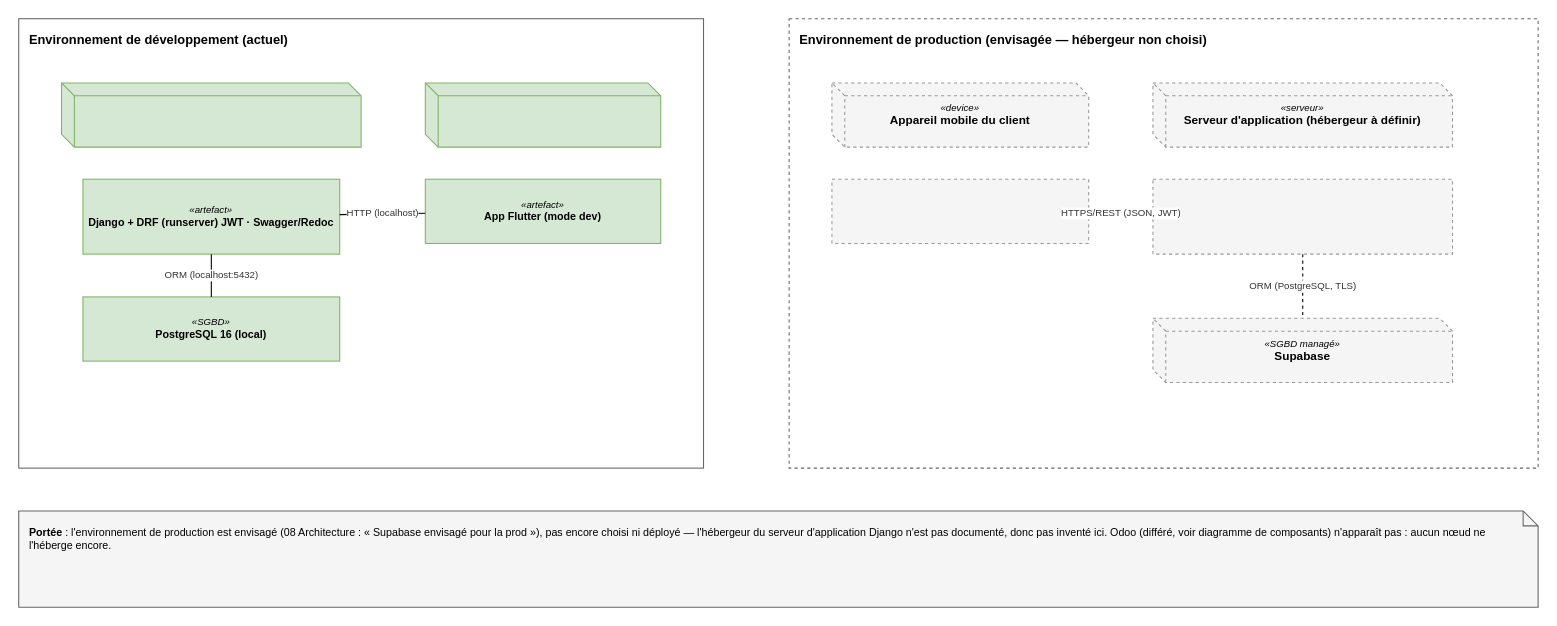
The diagram is 1557 pixels wide and 626 high, and some of its shapes have lost their labels. Here are the shapes that lost their labels. From the top down, the centre of each, then its label:
the point at 210,114: «ordinateur» Poste de développement
the point at 542,114: «device» Émulateur / appareil de test
the point at 960,210: «artefact» App Flutter (installée)
the point at 1302,216: «artefact» Django + DRF JWT · Swagger/Redoc
